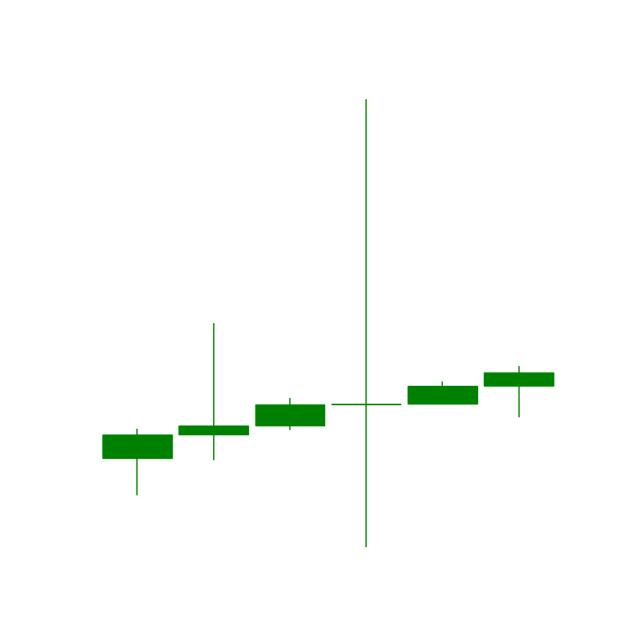Long-Legged Doji: (331, 96, 404, 550)
